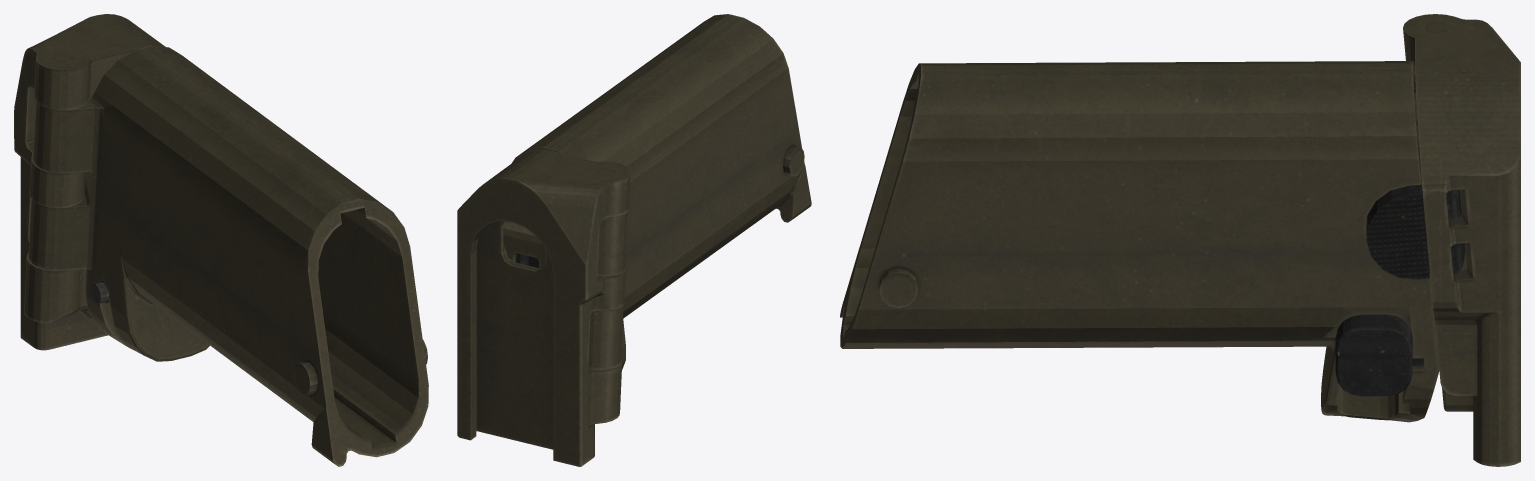
The picture shows the model from 3 angles, left to right: view 1: azimuth 30°, elevation 25°; view 2: azimuth 150°, elevation 25°; view 3: azimuth 270°, elevation 25°; orthographic projection. The views are drawn at different scales.
Visible parts, largest first — view 1: TW_61825d06d92c473c770215de_PZ_Import; view 2: TW_61825d06d92c473c770215de_PZ_Import; view 3: TW_61825d06d92c473c770215de_PZ_Import.
Part boxes in pixels (x1,y1,x2,y2): TW_61825d06d92c473c770215de_PZ_Import: (14,14,428,466); TW_61825d06d92c473c770215de_PZ_Import: (457,14,811,466); TW_61825d06d92c473c770215de_PZ_Import: (840,14,1520,466).
Bounding box in the file's own units: 0.0288 × 0.0848 × 0.0495.
Materials: 1 (1 with a texture image).
